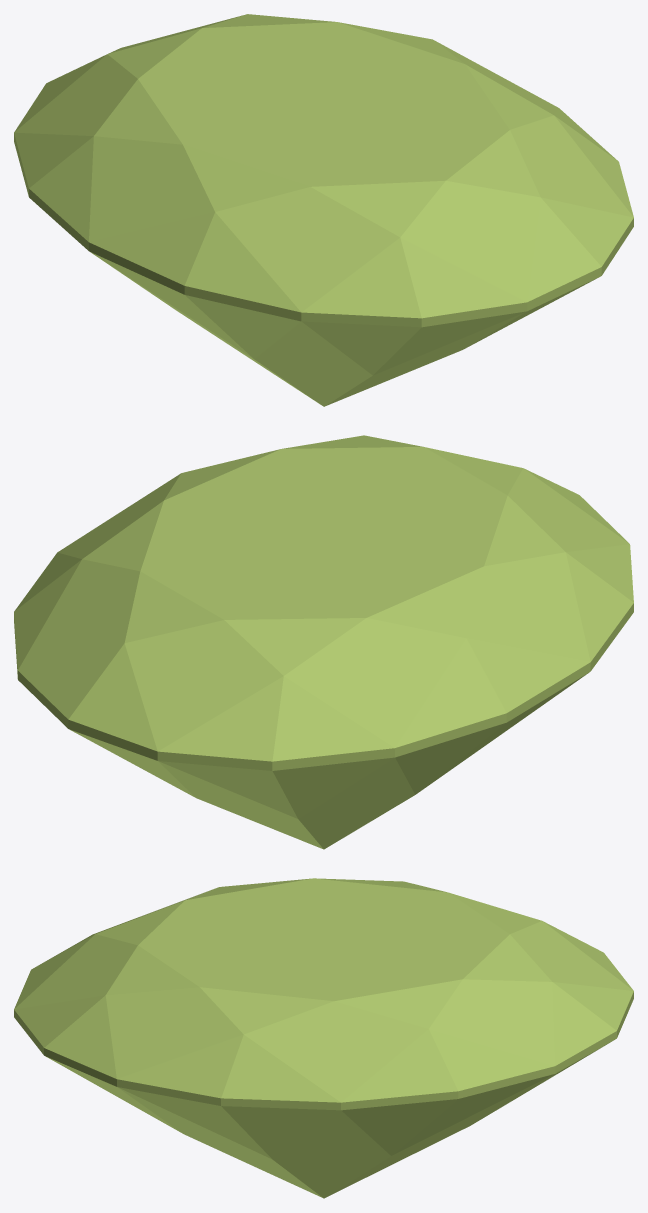
Rendered from stone-peridot.glb.
3 renders of one model, top to bottom at view 1: azimuth 30°, elevation 25°; view 2: azimuth 150°, elevation 25°; view 3: azimuth 270°, elevation 25°, orthographic. The views are drawn at different scales.
Parts seen in each view (by area): view 1: Gemstone Peridot; view 2: Gemstone Peridot; view 3: Gemstone Peridot.
Part boxes in pixels (x1,y1,x2,y2): Gemstone Peridot: [14, 14, 633, 406]; Gemstone Peridot: [14, 435, 633, 849]; Gemstone Peridot: [14, 878, 633, 1198].
Size of the model in its own units: 2 by 1.18 by 2.55.
